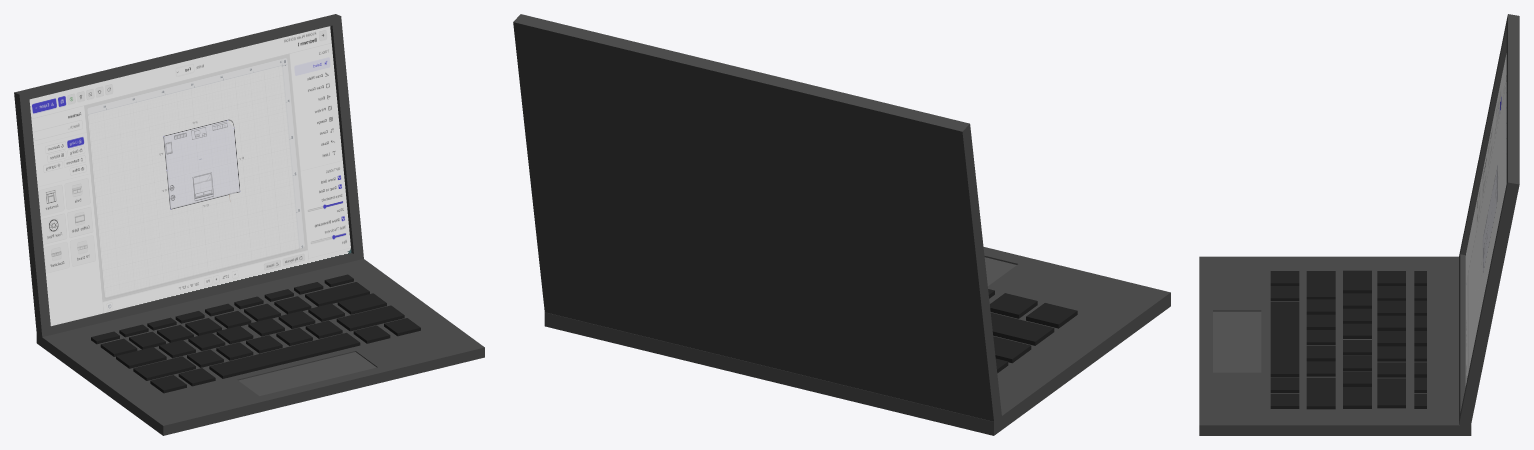
File: decorai-macbook-hq.glb
3 renders of one model, left to right at view 1: azimuth 30°, elevation 25°; view 2: azimuth 150°, elevation 25°; view 3: azimuth 270°, elevation 25°, orthographic. The views are drawn at different scales.
Visible parts, largest first — view 1: Cube.001, Cube, Cube.042, Cube.037, Cube.019, Cube.029, Cube.020, Cube.028; view 2: Cube.001, Cube, Cube.029, Cube.038, Cube.039, Cube.020; view 3: Cube, Cube.001, Cube.042, Cube.037, Cube.019, Cube.029, Cube.020, Cube.028, Cube.032, Cube.036, Cube.033, Cube.034 (+18 smaller).
Boxes of the visible parts, bbox=[...] form: Cube.001: bbox=[14, 14, 363, 337]; Cube: bbox=[36, 259, 484, 435]; Cube.042: bbox=[209, 332, 360, 378]; Cube.037: bbox=[336, 305, 404, 331]; Cube.019: bbox=[305, 282, 369, 306]; Cube.029: bbox=[133, 356, 195, 380]; Cube.020: bbox=[116, 347, 166, 368]; Cube.028: bbox=[337, 293, 386, 314]; Cube.001: bbox=[513, 14, 1001, 423]; Cube: bbox=[544, 247, 1170, 435]; Cube.029: bbox=[990, 312, 1054, 345]; Cube.038: bbox=[1026, 303, 1077, 328]; Cube.039: bbox=[990, 293, 1037, 318]; Cube.020: bbox=[993, 336, 1031, 363]; Cube: bbox=[1199, 256, 1471, 435]; Cube.001: bbox=[1459, 14, 1519, 426]; Cube.042: bbox=[1270, 302, 1299, 377]; Cube.037: bbox=[1306, 377, 1335, 409]; Cube.019: bbox=[1377, 378, 1405, 408]; Cube.029: bbox=[1306, 271, 1335, 299]; Cube.020: bbox=[1343, 270, 1371, 293]; Cube.028: bbox=[1343, 387, 1371, 408]; Cube.032: bbox=[1306, 299, 1335, 314]; Cube.036: bbox=[1306, 361, 1335, 376]; Cube.033: bbox=[1306, 314, 1335, 329]; Cube.034: bbox=[1306, 330, 1335, 345].
Size of the model in its own units: 5.33 by 3.74 by 4.28.
4 materials, 1 textured.
